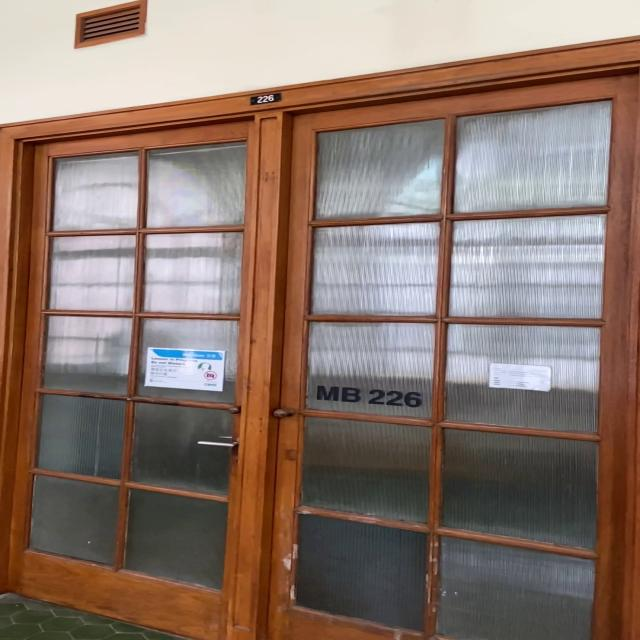room226: (248, 92, 285, 106)
room226Window: (317, 382, 425, 408)
